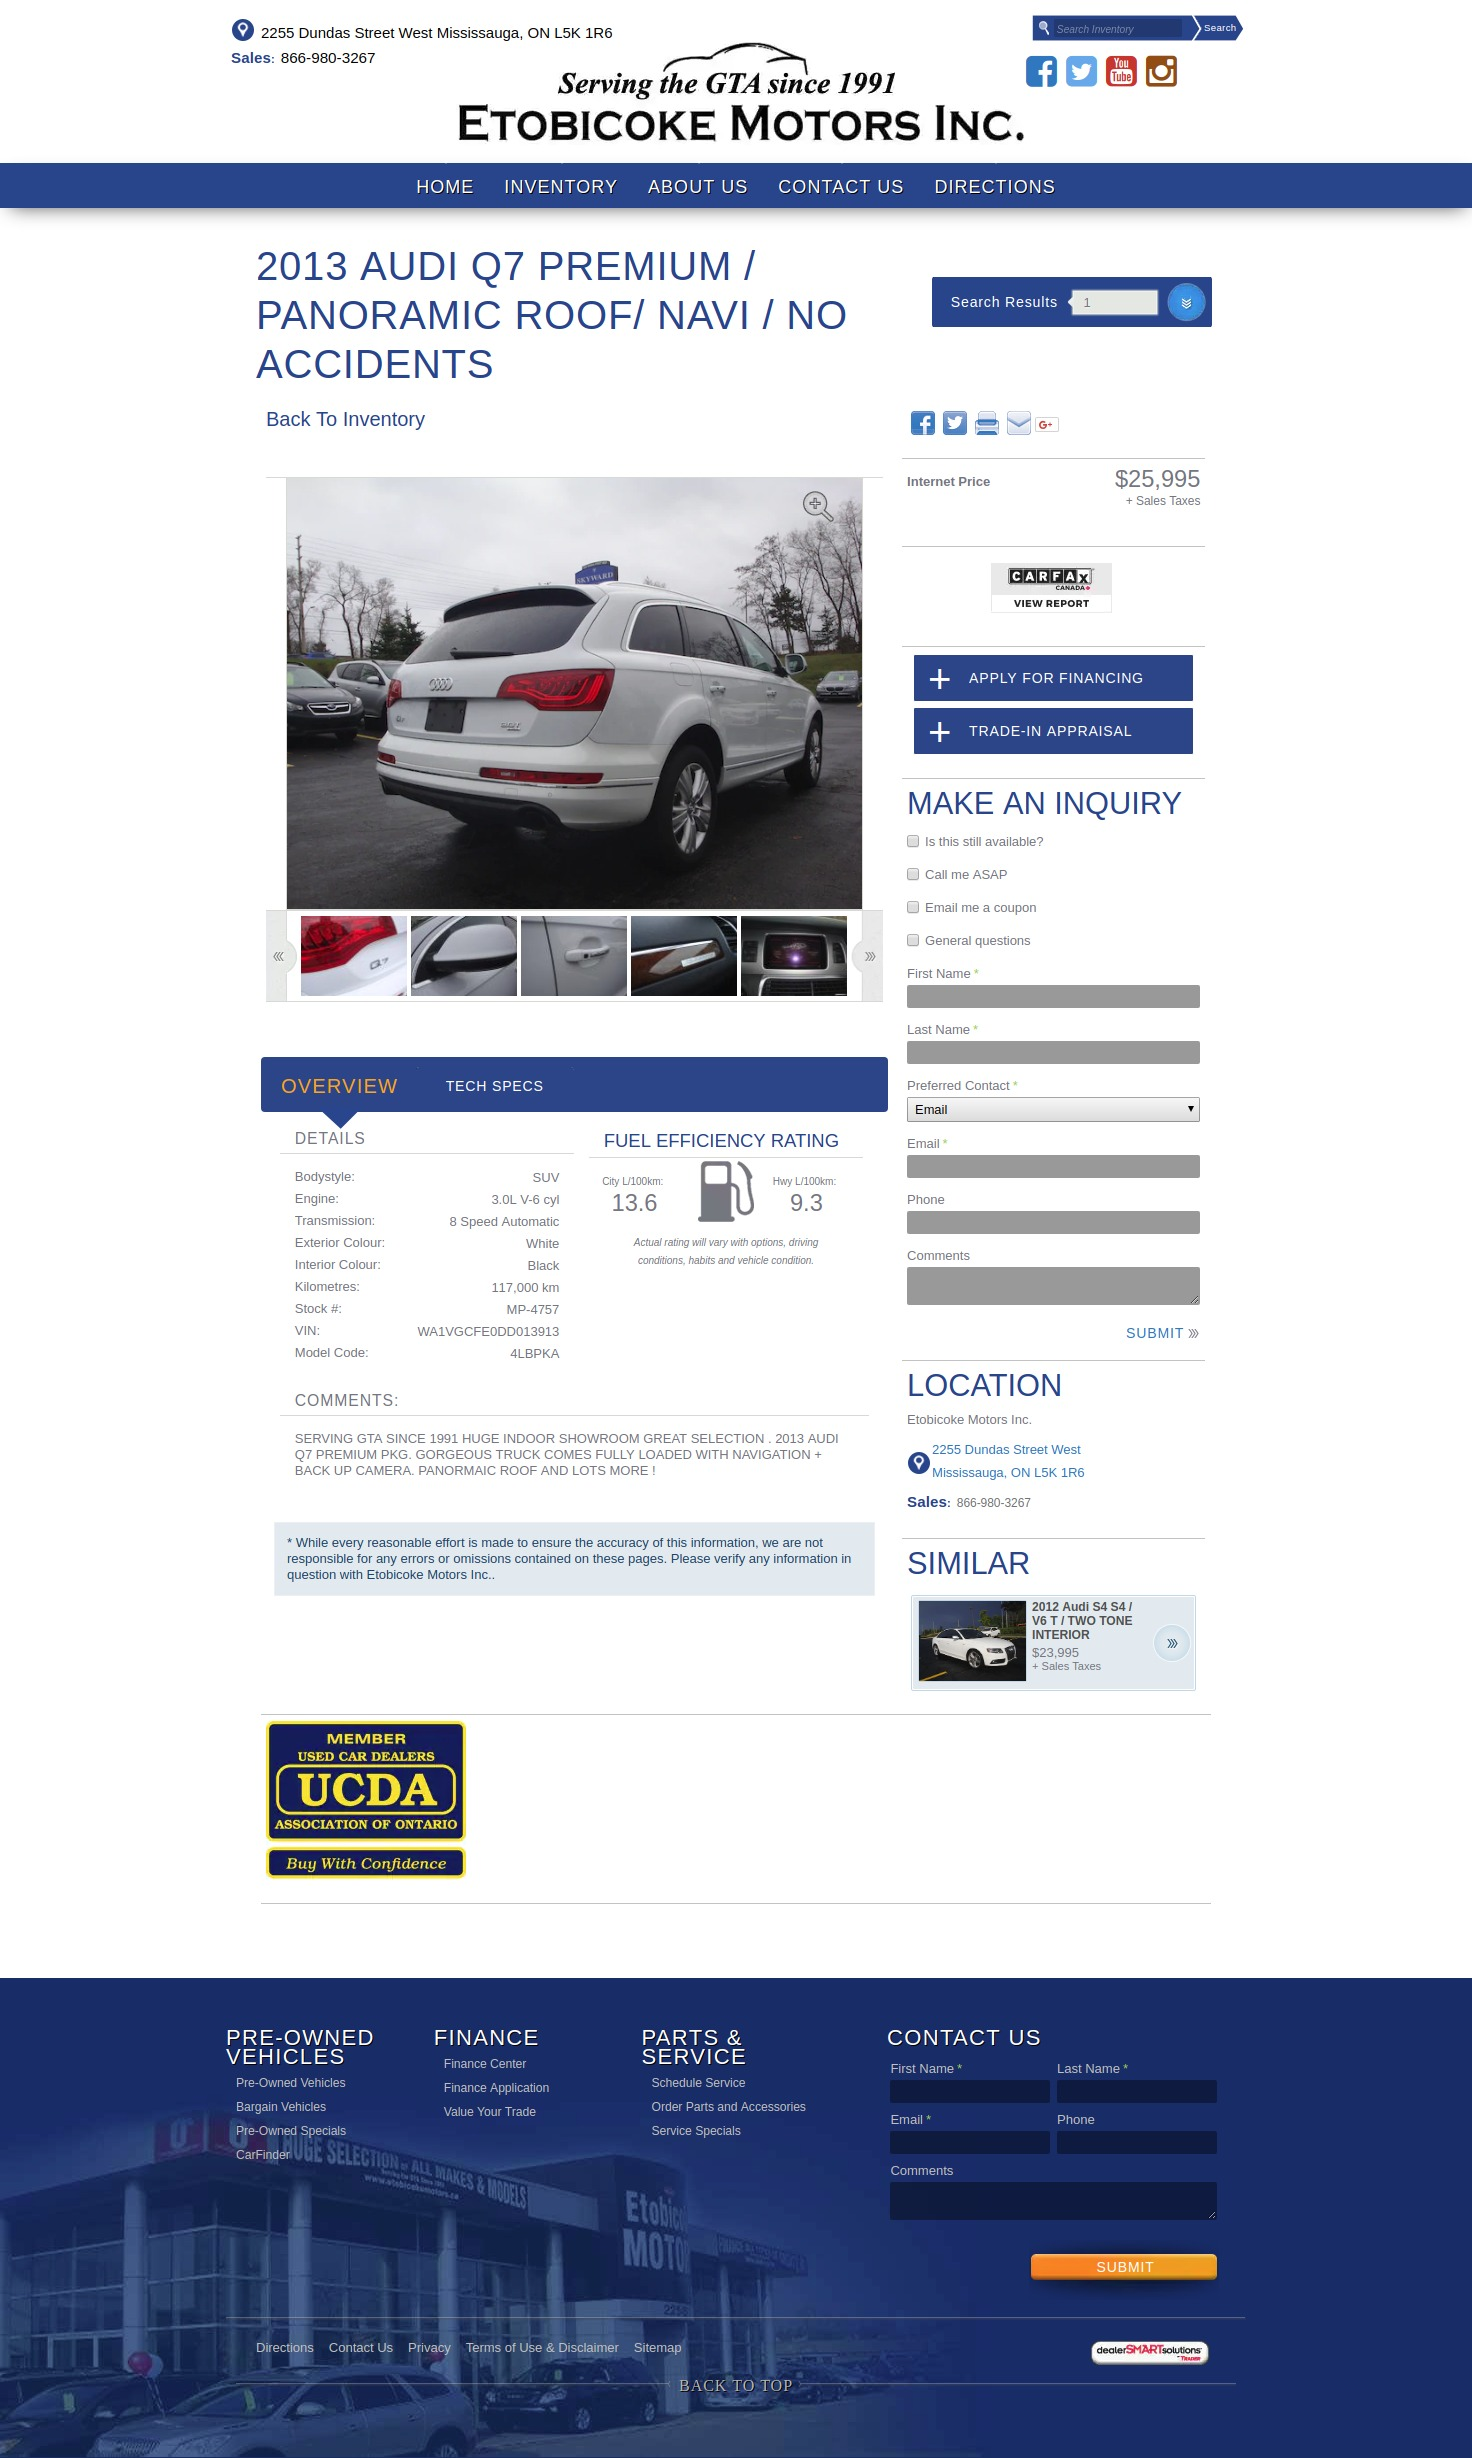car: (866, 951, 876, 962)
